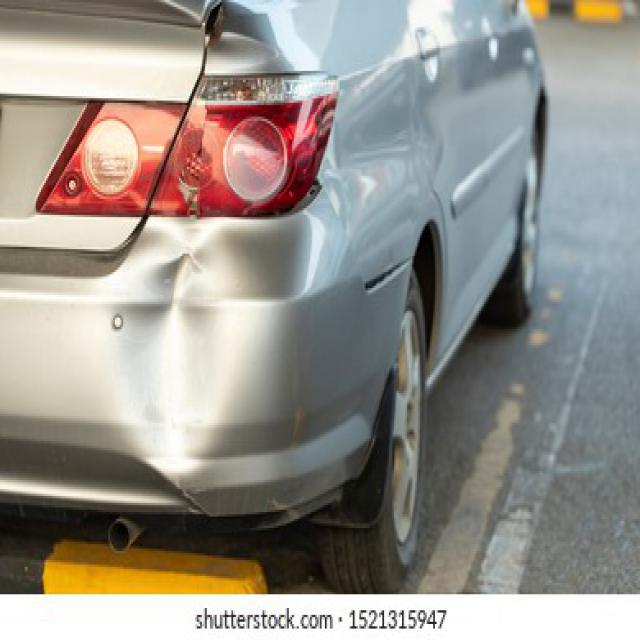rear-bumper-dent: (108, 231, 248, 482)
